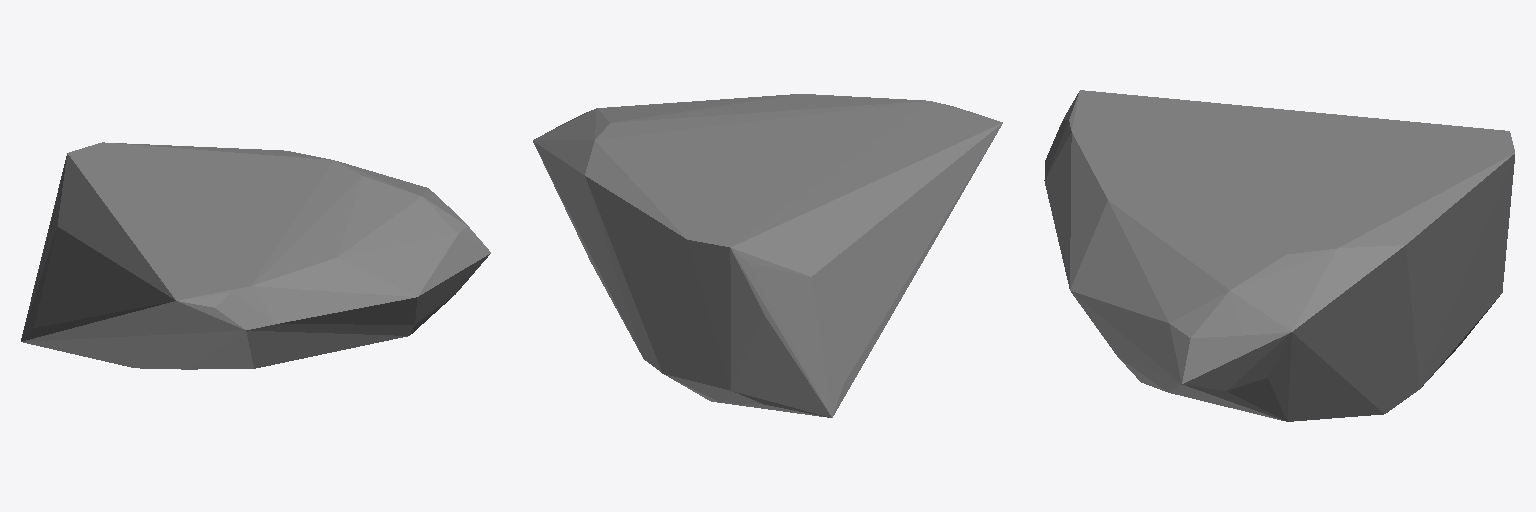
URDF robot description (55_063):
<?xml version="1.0"?>
<robot name="55_063">
  <link name="link">
    <contact>
      <lateral_friction value="0.6"/>
    </contact>
    <inertial>
      <origin xyz="-0.0031722533275570547 0.0031677682957509845 0.001706181020528451" rpy="0 0 0"/>
      <mass value = "0.49133161580904056"/>
      <inertia ixx="0.000208390988275381" ixy="2.0779077848962474e-05" ixz="-3.325911580451381e-05" iyy="0.00038725168400946986" iyz="-1.664092629025031e-05" izz="0.0004077547550466634" />
    </inertial>
    <visual name="visual">
      <geometry>
        <mesh filename="55_063.obj"/>
      </geometry>
      <material name="material">
        <color rgba="0.5576028924179453 0.5576028924179453 0.5576028924179453 1.0"/>
      </material>
    </visual>
    <collision name="collision">
      <geometry>
        <mesh filename="55_063.obj"/>
      </geometry>
    </collision>
  </link>
</robot>

--- What the picture shows (computed from the rendered views, not written in the file) ---
The picture shows the robot from 3 angles, left to right: view 1: azimuth 30°, elevation 25°; view 2: azimuth 150°, elevation 25°; view 3: azimuth 270°, elevation 25°; orthographic projection.
Model 55_063 with 1 links and 0 joints (none), rooted at link, posed all joints at 0.
Visible links, largest first — view 1: link; view 2: link; view 3: link.
Link boxes in pixels (bbox=[...]): link: bbox=[21, 142, 490, 369]; link: bbox=[533, 94, 1002, 417]; link: bbox=[1044, 90, 1514, 421].
Bounding box of the posed robot: 0.1037 × 0.0984 × 0.0497 m (x, y, z).
Meshes: 1 distinct files referenced, 1 mesh visuals loaded (1 OBJ).
